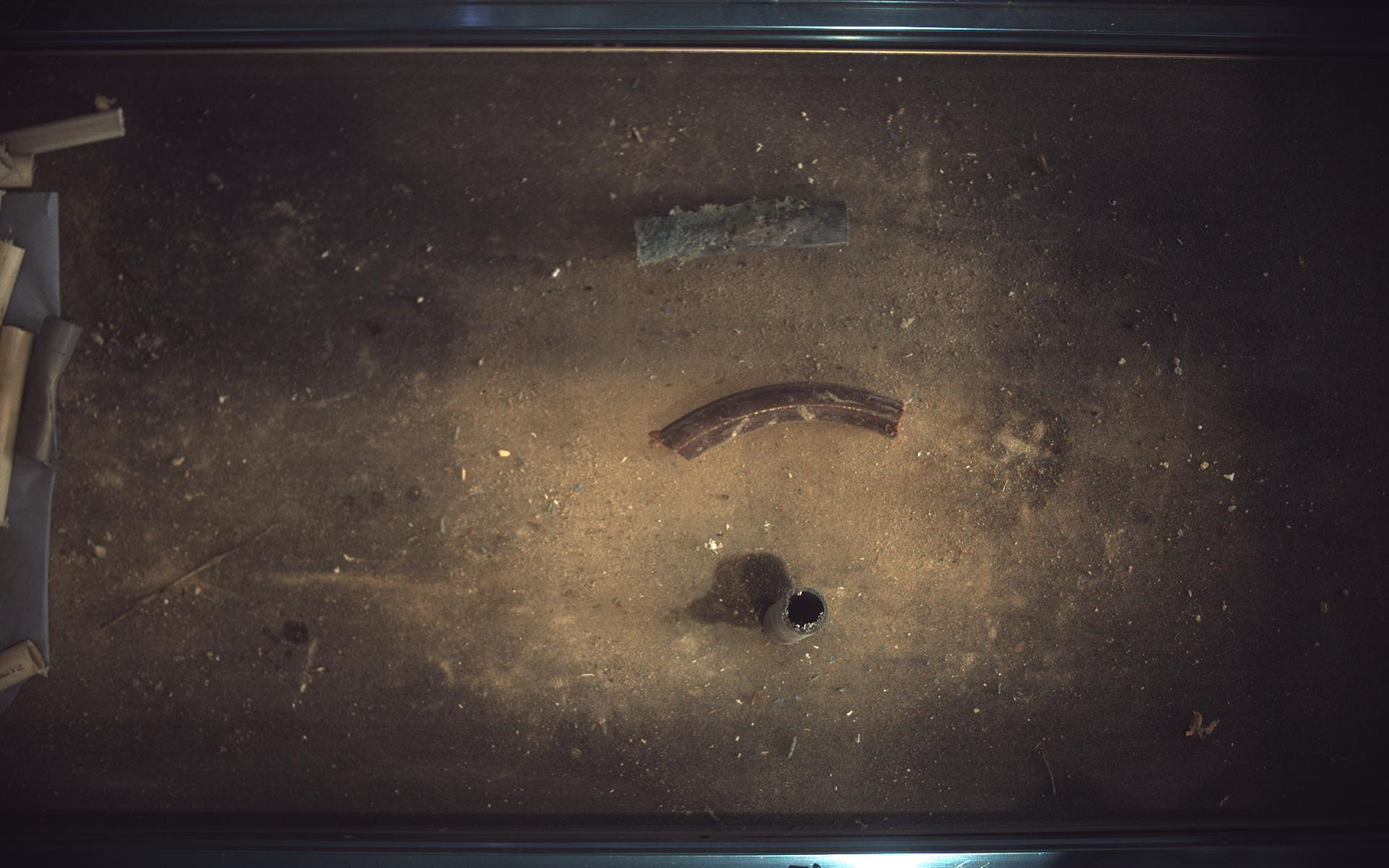pipes: (651, 382, 907, 460), (636, 196, 850, 265), (13, 316, 80, 466), (1, 326, 33, 527), (765, 587, 829, 646), (1, 641, 46, 692), (1, 239, 23, 325), (1, 152, 33, 190), (1, 145, 15, 183)
plastic: (1, 107, 124, 154)
